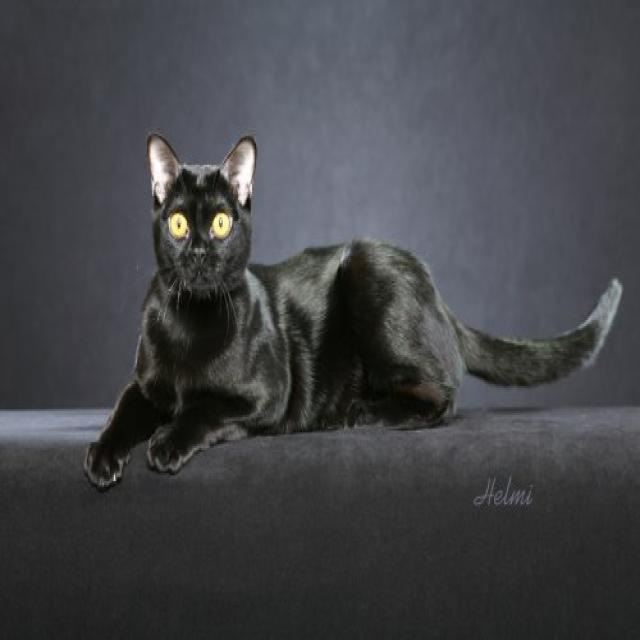Bombay: (145, 134, 254, 291)
